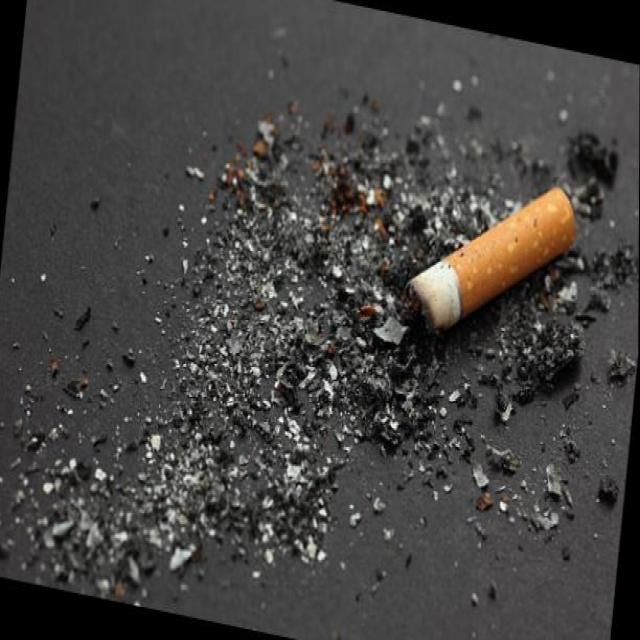cigarette: (392, 151, 589, 381)
